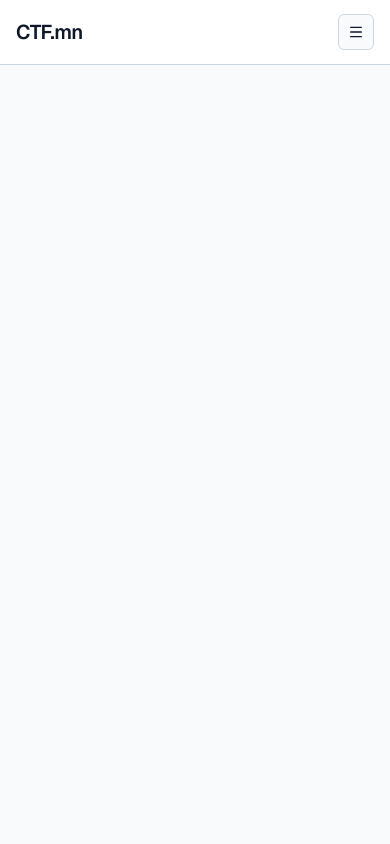
AppHeader › shows profile and logout inside mobile menu for authenticated users
Click the button named "Open menu" at (356, 32), box [338, 14, 374, 50]
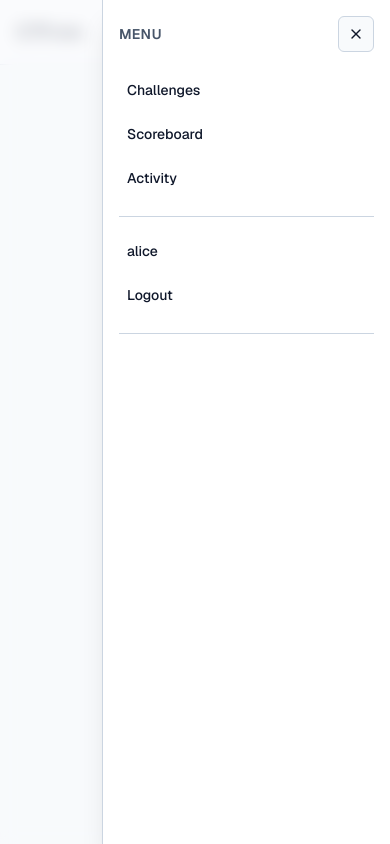
Expected: the dialog "Menu" is shown
